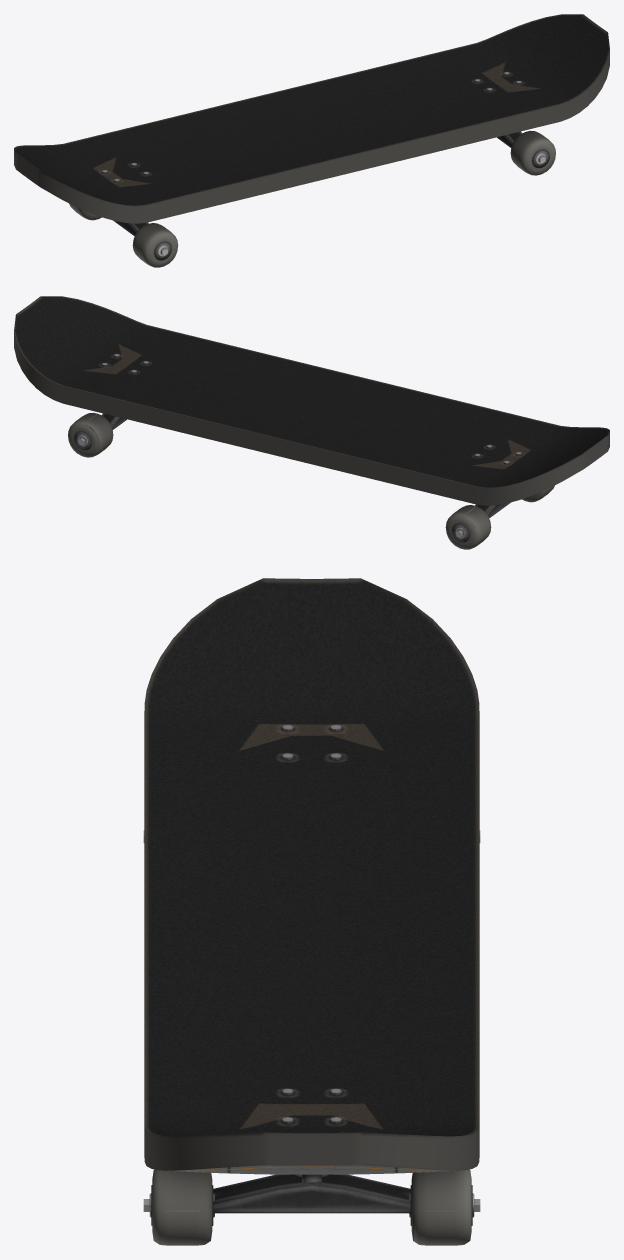
Rendered from SkateboardGargoyle.fbx.
3 renders of one model, top to bottom at view 1: azimuth 30°, elevation 25°; view 2: azimuth 150°, elevation 25°; view 3: azimuth 270°, elevation 25°, orthographic. The views are drawn at different scales.
Parts seen in each view (by area): view 1: SkateboardGargoyle_Main, SkateboardGargoyle_WheelBR, SkateboardGargoyle_WheelFR; view 2: SkateboardGargoyle_Main, SkateboardGargoyle_WheelBL, SkateboardGargoyle_WheelFL; view 3: SkateboardGargoyle_Main, SkateboardGargoyle_TruckF, SkateboardGargoyle_WheelFL, SkateboardGargoyle_WheelFR.
Boxes of the visible parts, x1,y1,x2,y2 form: SkateboardGargoyle_Main: [14, 14, 609, 223]; SkateboardGargoyle_WheelBR: [132, 223, 178, 267]; SkateboardGargoyle_WheelFR: [510, 130, 555, 175]; SkateboardGargoyle_Main: [14, 296, 609, 505]; SkateboardGargoyle_WheelBL: [445, 505, 491, 549]; SkateboardGargoyle_WheelFL: [68, 412, 113, 457]; SkateboardGargoyle_Main: [144, 578, 479, 1174]; SkateboardGargoyle_TruckF: [213, 1174, 410, 1213]; SkateboardGargoyle_WheelFL: [409, 1169, 480, 1245]; SkateboardGargoyle_WheelFR: [143, 1169, 214, 1245].
Bounding box in the file's own units: 544 × 92.43 × 140.
